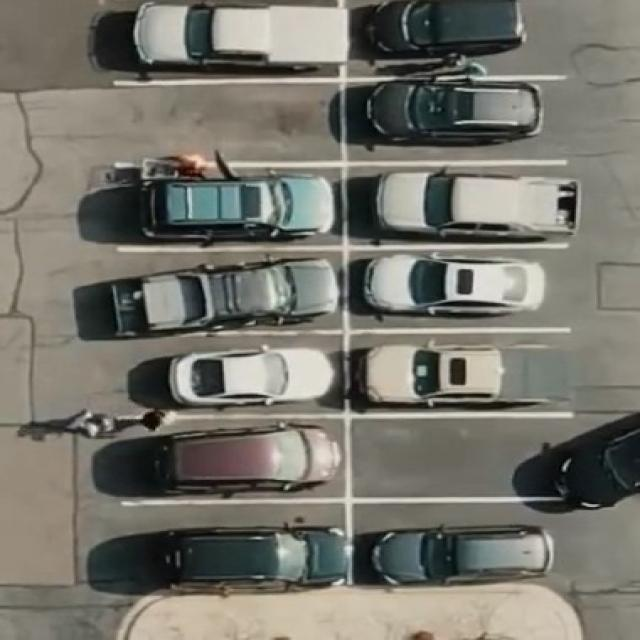space-empty: (100, 75, 343, 169), (347, 412, 569, 506)
space-occupied: (96, 497, 352, 592), (96, 244, 344, 338), (89, 412, 349, 501), (345, 321, 581, 415), (94, 334, 354, 416), (343, 69, 568, 163), (346, 158, 580, 248), (101, 0, 349, 82), (352, 496, 566, 589), (347, 240, 571, 328), (110, 163, 346, 245), (349, 0, 532, 72)
